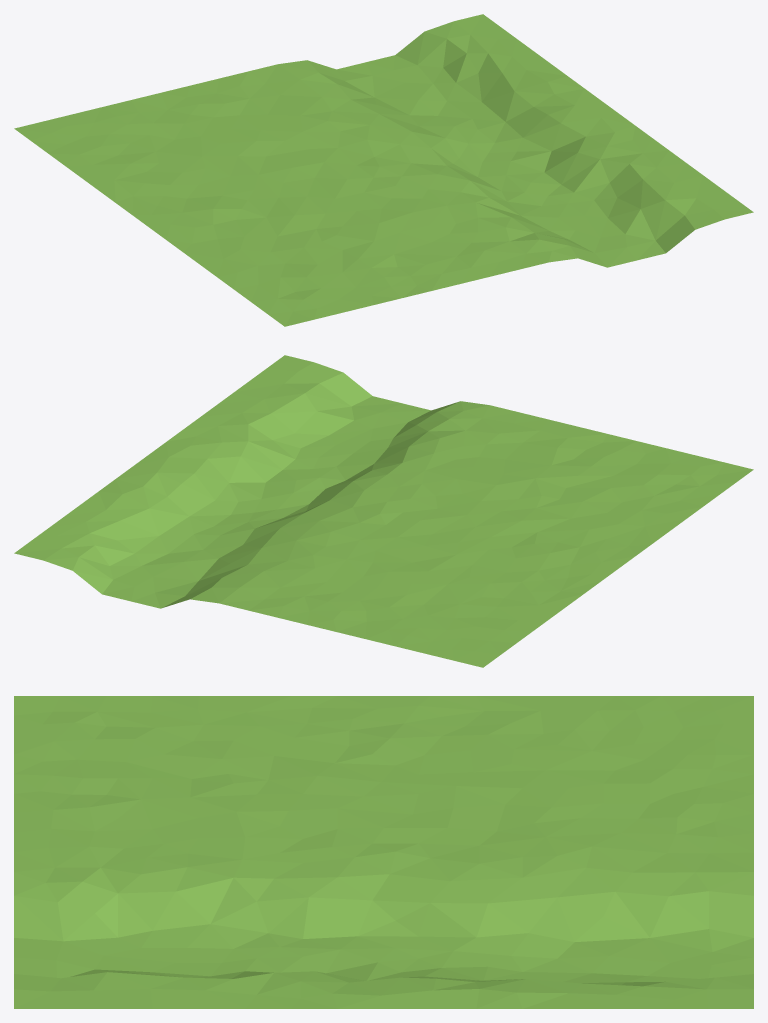
The model's file is MT_River_M_a_01_R_LOD.fbx.
3 views of the same model, one above another, from view 1: azimuth 30°, elevation 25°; view 2: azimuth 150°, elevation 25°; view 3: azimuth 270°, elevation 25° (orthographic). The views are drawn at different scales.
Parts seen in each view (by area): view 1: MT_River_M_a_01_R_LOD0; view 2: MT_River_M_a_01_R_LOD0; view 3: MT_River_M_a_01_R_LOD0.
Part boxes in pixels (left/top/right/bottom): MT_River_M_a_01_R_LOD0: left=14, top=14, right=753, bottom=326; MT_River_M_a_01_R_LOD0: left=14, top=355, right=753, bottom=667; MT_River_M_a_01_R_LOD0: left=14, top=696, right=753, bottom=1008.
Size of what is drawn, in the model's own units: 50 by 2.21 by 50.
